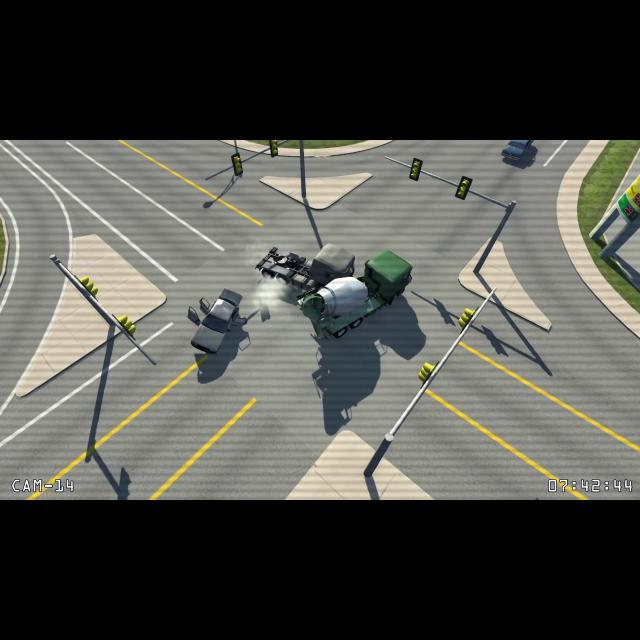accident: (254, 241, 416, 340)
